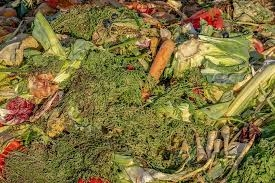kitchen_waste: (63, 54, 179, 163), (178, 125, 257, 176), (134, 35, 184, 114), (26, 12, 79, 77)
